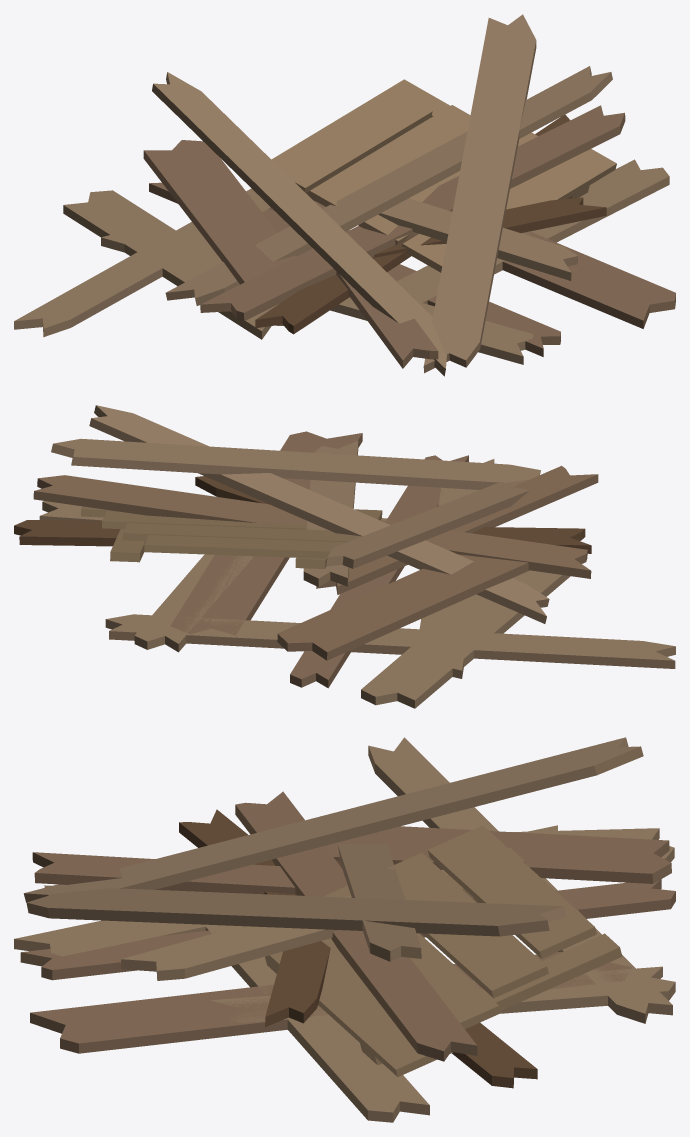
The model's file is debris_planks.glb.
3 renders of one model, top to bottom at view 1: azimuth 30°, elevation 25°; view 2: azimuth 150°, elevation 25°; view 3: azimuth 270°, elevation 25°, orthographic. The views are drawn at different scales.
Visible parts, largest first — view 1: plank__debris_planks__solid, wood__debris_planks__solid, crate__debris_planks__solid, dark_wood__debris_planks__solid; view 2: plank__debris_planks__solid, wood__debris_planks__solid, crate__debris_planks__solid, dark_wood__debris_planks__solid; view 3: plank__debris_planks__solid, wood__debris_planks__solid, crate__debris_planks__solid, dark_wood__debris_planks__solid.
Boxes of the visible parts, <box> form: plank__debris_planks__solid: <box>14,14,669,376</box>; wood__debris_planks__solid: <box>143,105,675,368</box>; crate__debris_planks__solid: <box>271,79,616,272</box>; dark_wood__debris_planks__solid: <box>255,114,606,334</box>; plank__debris_planks__solid: <box>39,405,675,708</box>; wood__debris_planks__solid: <box>33,431,598,688</box>; crate__debris_planks__solid: <box>81,506,382,568</box>; dark_wood__debris_planks__solid: <box>14,476,591,553</box>; plank__debris_planks__solid: <box>14,737,675,1122</box>; wood__debris_planks__solid: <box>20,791,675,1061</box>; crate__debris_planks__solid: <box>265,825,622,1076</box>; dark_wood__debris_planks__solid: <box>179,809,537,1088</box>.
Bounding box in the file's own units: 1.98 × 0.3898 × 1.47.
